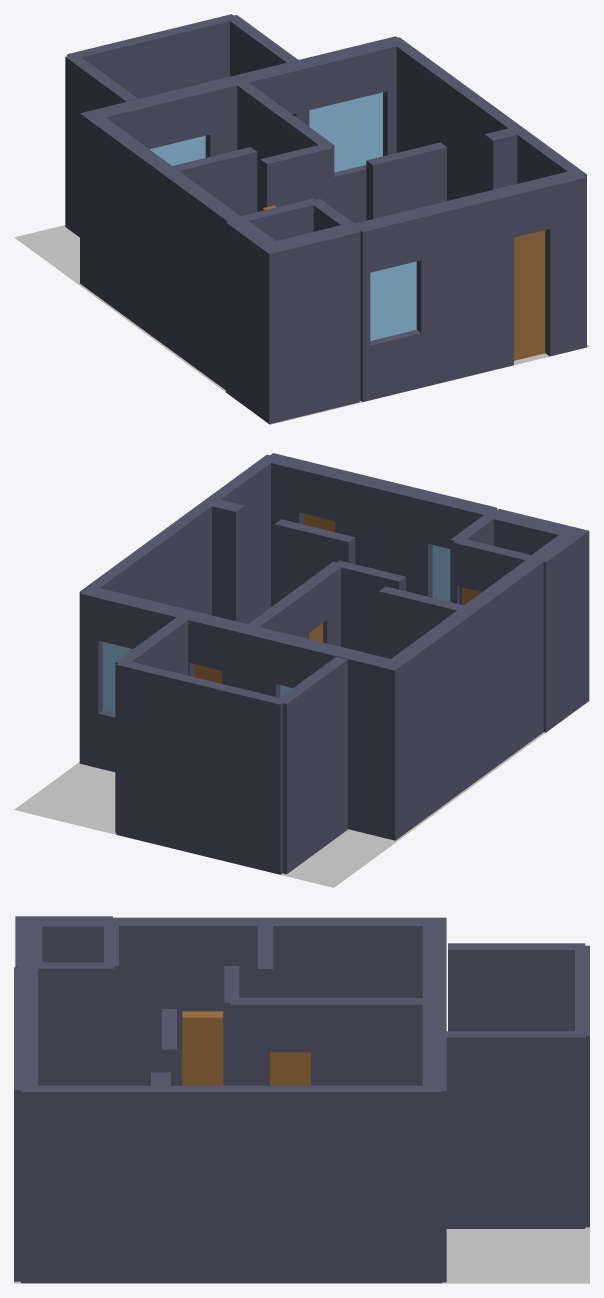
The picture shows the model from 3 angles, top to bottom: view 1: azimuth 30°, elevation 25°; view 2: azimuth 150°, elevation 25°; view 3: azimuth 270°, elevation 25°; orthographic projection. The views are drawn at different scales.
Parts seen in each view (by area): view 1: wall, Window, Door, FloorPlan; view 2: wall, FloorPlan, Window, Door; view 3: wall, FloorPlan, door, Door.
Part boxes in pixels (x1,y1,x2,y2): wall: [65, 14, 586, 424]; Window: [150, 92, 416, 340]; Door: [514, 230, 545, 360]; FloorPlan: [14, 225, 589, 424]; wall: [79, 453, 589, 874]; FloorPlan: [14, 700, 589, 887]; Window: [103, 545, 450, 712]; Door: [194, 513, 481, 683]; wall: [14, 916, 589, 1283]; FloorPlan: [14, 1227, 589, 1283]; door: [182, 1011, 223, 1085]; Door: [270, 1052, 310, 1085].
Size of the model in its own units: 5.51 by 2.8 by 7.64.
